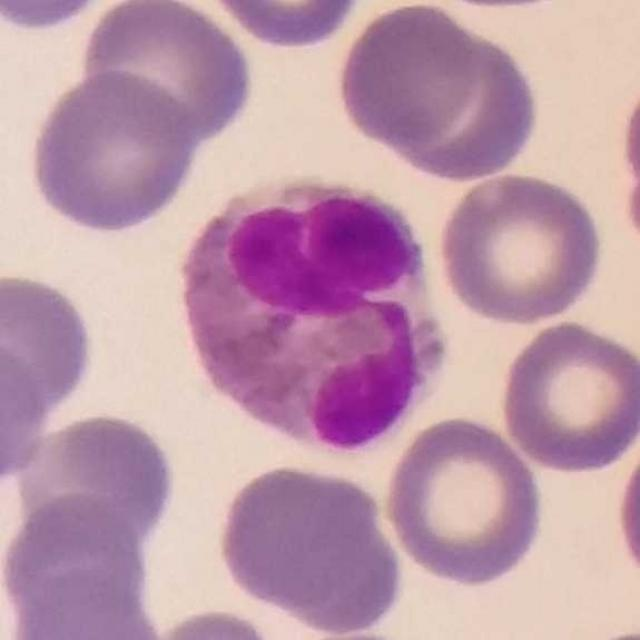eosino: (183, 175, 446, 451)
